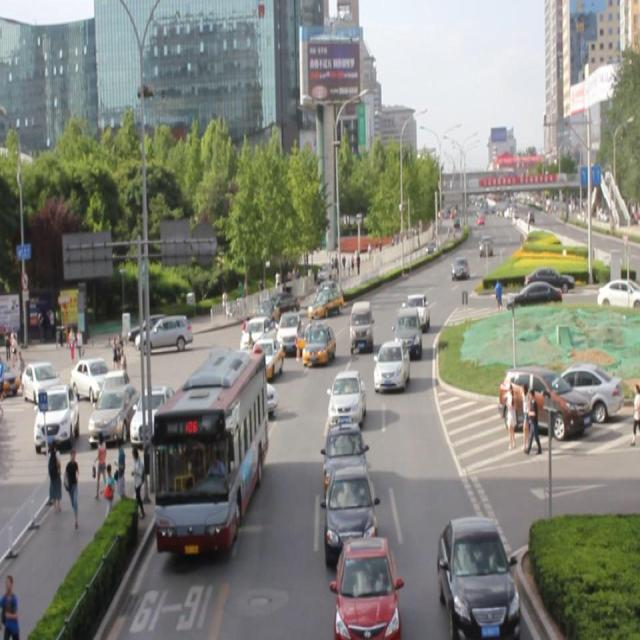car: (440, 514, 518, 640), (335, 537, 397, 640), (325, 465, 377, 557), (324, 422, 367, 495), (231, 362, 278, 418), (328, 370, 364, 426), (373, 339, 408, 390), (211, 345, 245, 395), (248, 334, 288, 376), (304, 316, 338, 362), (274, 306, 305, 354), (394, 308, 422, 360), (240, 318, 273, 359), (311, 279, 348, 315), (401, 293, 430, 330)
truck: (348, 299, 372, 349)
van: (155, 350, 264, 547)
